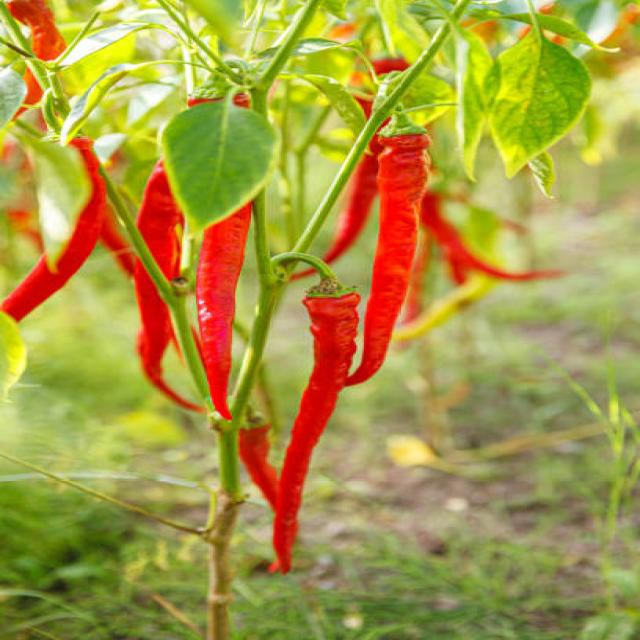Ripe: (270, 291, 360, 573), (345, 130, 429, 385), (0, 139, 105, 321), (197, 204, 250, 419), (133, 262, 199, 409), (322, 136, 382, 263), (137, 162, 184, 278), (238, 422, 279, 508)
